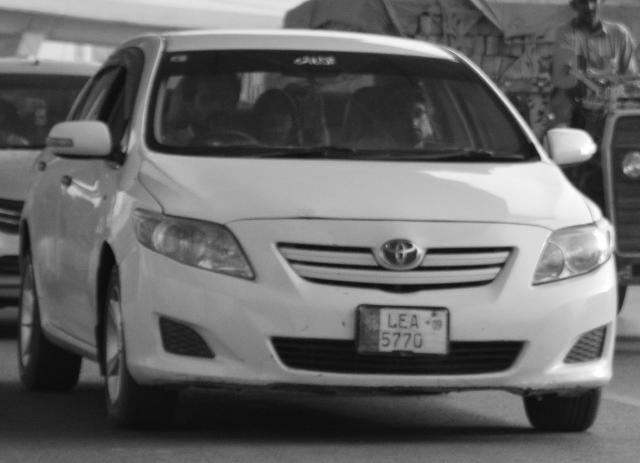Number: (379, 313, 426, 351)
